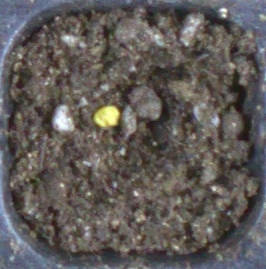chilli seed: (93, 105, 119, 127)
